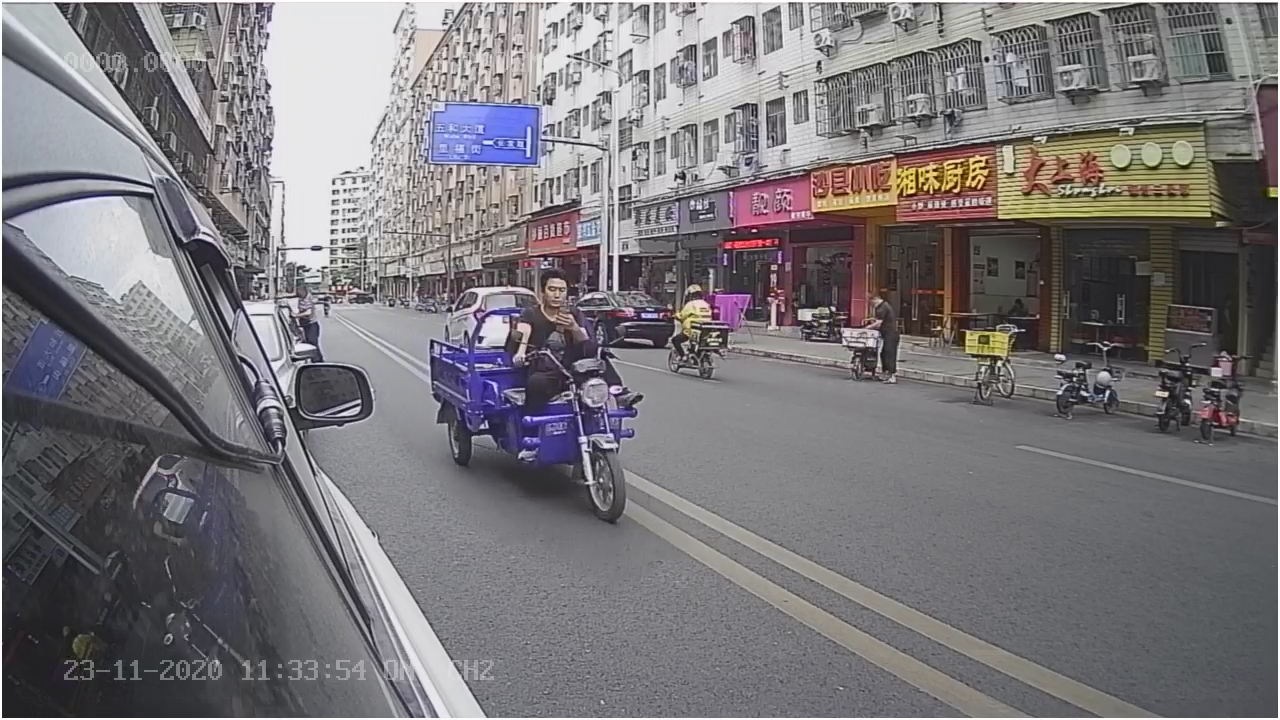person: (507, 266, 592, 362)
